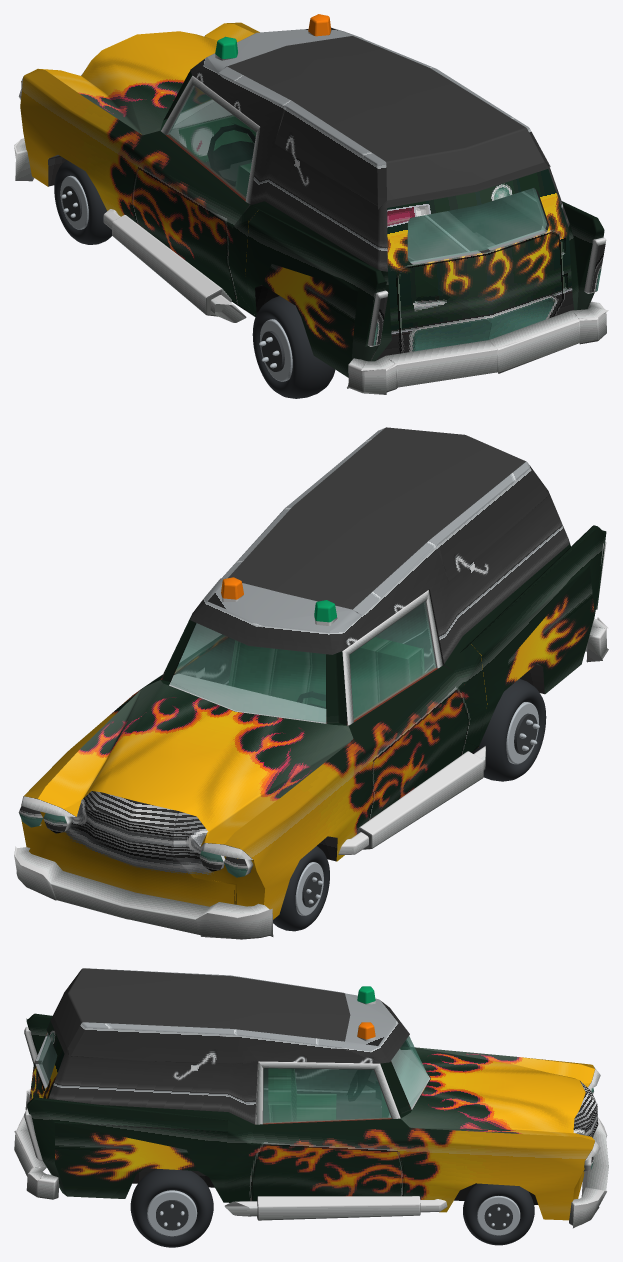
File: car-chears.glb
3 views of the same model, one above another, from view 1: azimuth 30°, elevation 25°; view 2: azimuth 150°, elevation 25°; view 3: azimuth 270°, elevation 25° (orthographic). The views are drawn at different scales.
Parts seen in each view (by area): view 1: cHearsShape.005, cHearsShape.010, cHearsShape.002, cHearsShape.001, cHearsShape.009, cHearsShape.007, DoorDRotShape.034, cHearsShape.008, windShape, cHearsShape.006, DoorDWindShape.001, Rounded tire.058 (+7 smaller); view 2: cHearsShape.005, cHearsShape.010, cHearsShape.007, cHearsShape.002, cHearsShape.004, cHearsShape.009, cHearsShape.008, windShape, DoorDRotShape.034, cHearsShape.006, DoorDWindShape.001, Rounded tire.058 (+9 smaller); view 3: cHearsShape.005, cHearsShape.010, cHearsShape.003, cHearsShape.007, cHearsShape.002, cHearsShape.009, DoorPRotShape.038, cHearsShape.006, DoorPWindShape.001, cHearsShape.008, Rounded tire.056, Rounded tire.057 (+12 smaller).
Boxes of the visible parts, <box> form: cHearsShape.005: <box>190,27,569,271</box>; cHearsShape.010: <box>227,36,544,200</box>; cHearsShape.002: <box>20,69,604,361</box>; cHearsShape.001: <box>18,96,605,361</box>; cHearsShape.009: <box>14,35,608,394</box>; cHearsShape.007: <box>38,23,254,134</box>; DoorDRotShape.034: <box>132,131,249,277</box>; cHearsShape.008: <box>158,100,541,348</box>; windShape: <box>181,87,546,262</box>; cHearsShape.006: <box>163,71,357,377</box>; DoorDWindShape.001: <box>168,86,256,199</box>; Rounded tire.058: <box>252,296,335,398</box>; cHearsShape.005: <box>190,428,569,672</box>; cHearsShape.010: <box>228,427,526,609</box>; cHearsShape.007: <box>38,680,353,846</box>; cHearsShape.002: <box>161,525,606,919</box>; cHearsShape.004: <box>21,791,264,906</box>; cHearsShape.009: <box>14,541,608,939</box>; cHearsShape.008: <box>142,589,451,752</box>; windShape: <box>170,623,326,722</box>; DoorDRotShape.034: <box>349,665,467,809</box>; cHearsShape.006: <box>161,565,594,725</box>; DoorDWindShape.001: <box>349,601,435,720</box>; Rounded tire.058: <box>472,678,546,781</box>; cHearsShape.005: <box>34,968,409,1124</box>; cHearsShape.010: <box>53,968,350,1048</box>; cHearsShape.003: <box>223,1120,594,1220</box>; cHearsShape.007: <box>401,1047,594,1140</box>; cHearsShape.002: <box>26,1013,594,1202</box>; cHearsShape.009: <box>14,1027,608,1228</box>; DoorPRotShape.038: <box>252,1128,410,1191</box>; cHearsShape.006: <box>55,1040,411,1198</box>; DoorPWindShape.001: <box>263,1068,391,1123</box>; cHearsShape.008: <box>44,1042,430,1175</box>; Rounded tire.056: <box>130,1169,213,1247</box>; Rounded tire.057: <box>463,1183,534,1245</box>.
Bounding box in the file's own units: 2.36 × 2.18 × 5.56.
Materials: 16 (13 with a texture image).
